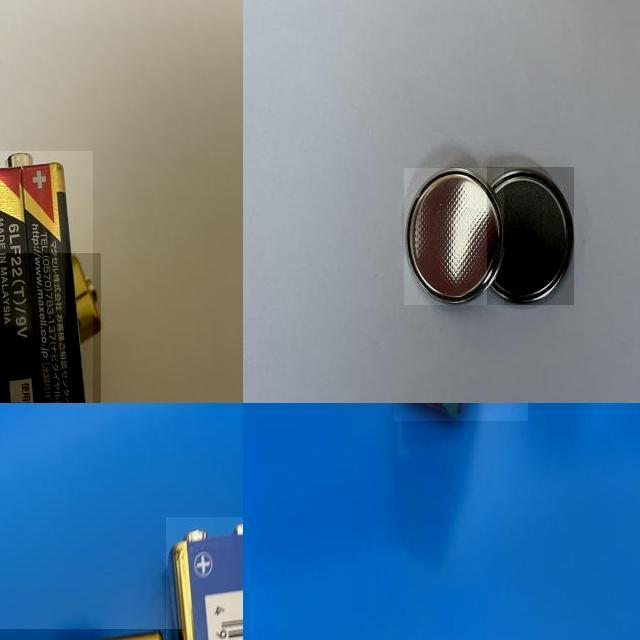9V: (0, 151, 93, 403), (0, 252, 100, 403), (166, 517, 243, 640)
